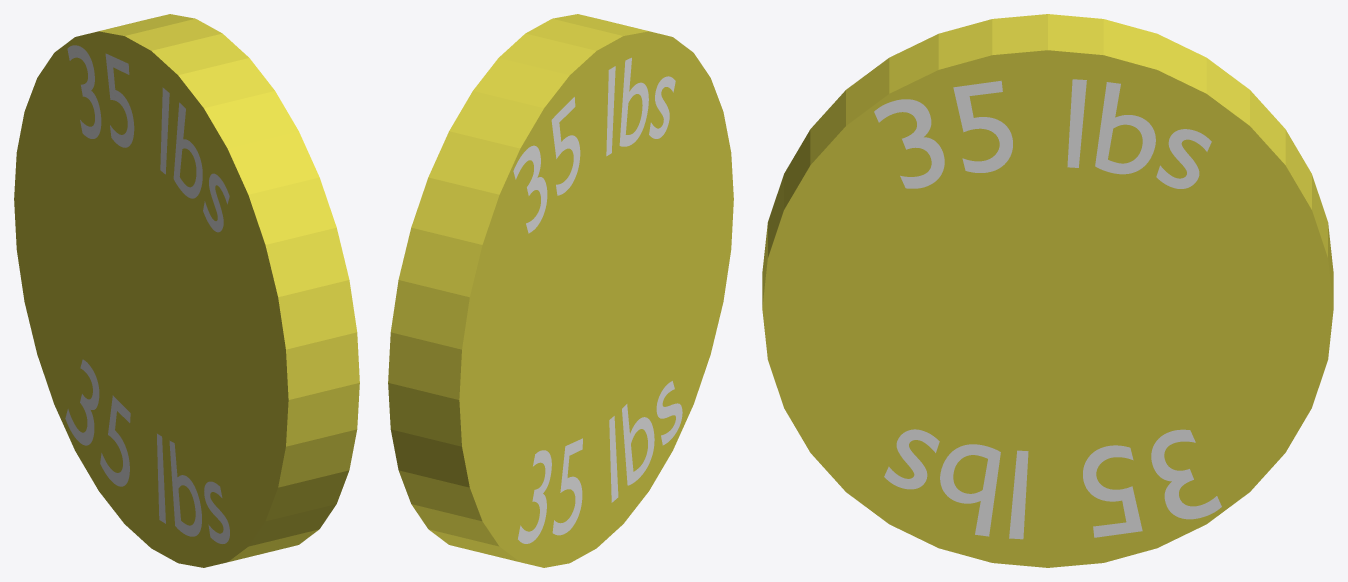
Rendered from 35plate.fbx.
3 views of the same model, side by side, from view 1: azimuth 30°, elevation 25°; view 2: azimuth 150°, elevation 25°; view 3: azimuth 270°, elevation 25° (orthographic). The views are drawn at different scales.
Parts seen in each view (by area): view 1: Cylinder, Text.002, Text.003; view 2: Cylinder, Text.002, Text.003; view 3: Cylinder, Text.001, Text.
Boxes of the visible parts, bbox=[...] form: Cylinder: bbox=[14, 14, 359, 567]; Text.002: bbox=[67, 45, 229, 232]; Text.003: bbox=[65, 359, 229, 543]; Cylinder: bbox=[388, 14, 733, 567]; Text.002: bbox=[513, 57, 675, 233]; Text.003: bbox=[518, 381, 682, 543]; Cylinder: bbox=[762, 14, 1333, 567]; Text.001: bbox=[884, 429, 1221, 539]; Text: bbox=[874, 79, 1211, 188].
Size of the model in its own units: 63.3 by 400 by 400.
